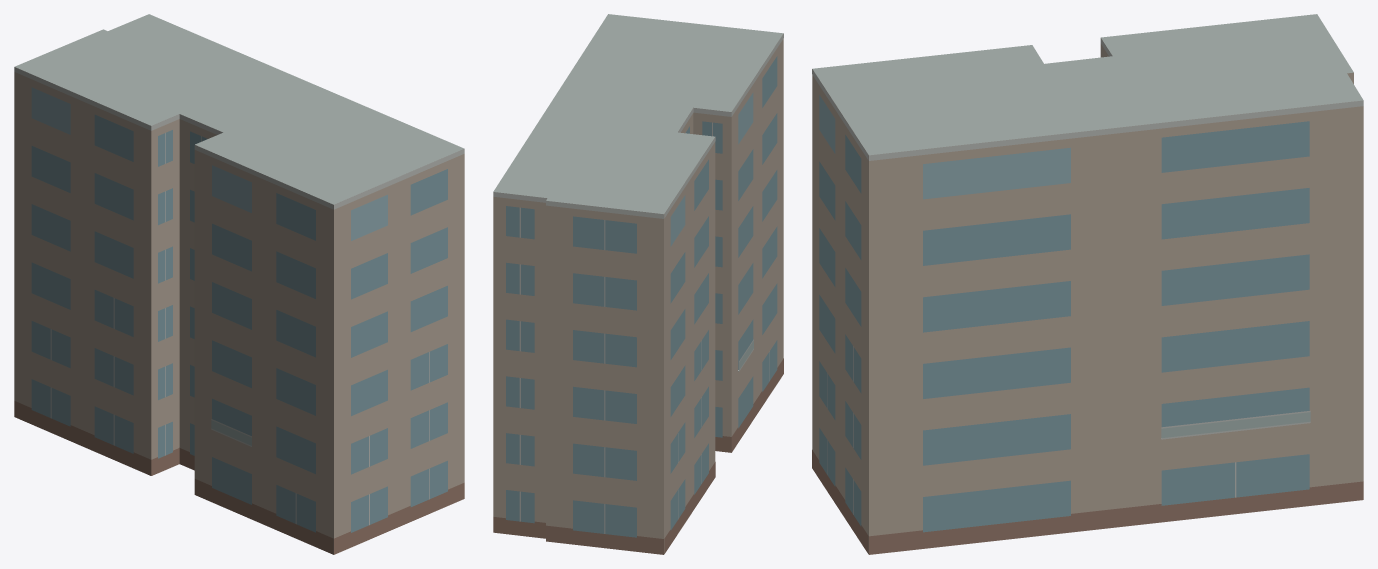
Rendered from survey-upis-32996591.glb.
The picture shows the model from 3 angles, left to right: view 1: azimuth 30°, elevation 25°; view 2: azimuth 150°, elevation 25°; view 3: azimuth 270°, elevation 25°; orthographic projection. The views are drawn at different scales.
Parts seen in each view (by area): view 1: survey-upis-32996591.tmp; view 2: survey-upis-32996591.tmp; view 3: survey-upis-32996591.tmp.
Part boxes in pixels (x1=…): survey-upis-32996591.tmp: x1=14, y1=14, x2=464, y2=554; survey-upis-32996591.tmp: x1=493, y1=14, x2=783, y2=554; survey-upis-32996591.tmp: x1=812, y1=14, x2=1363, y2=554.
Size of the model in its own units: 13.06 by 17.2 by 21.53.
